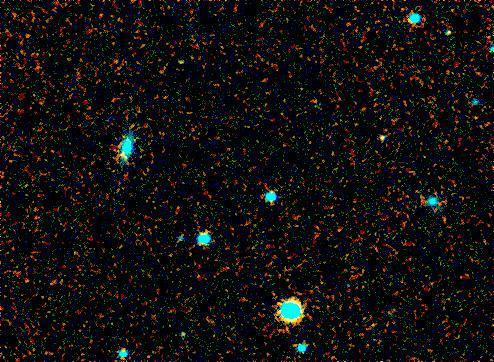star: (165, 45, 195, 75)
